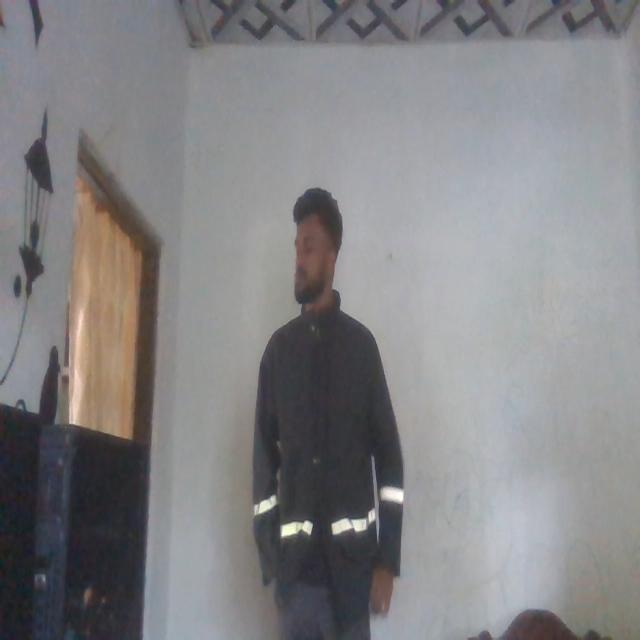Helmet_Wearer: (244, 305, 404, 590)
Person: (241, 186, 405, 640)
